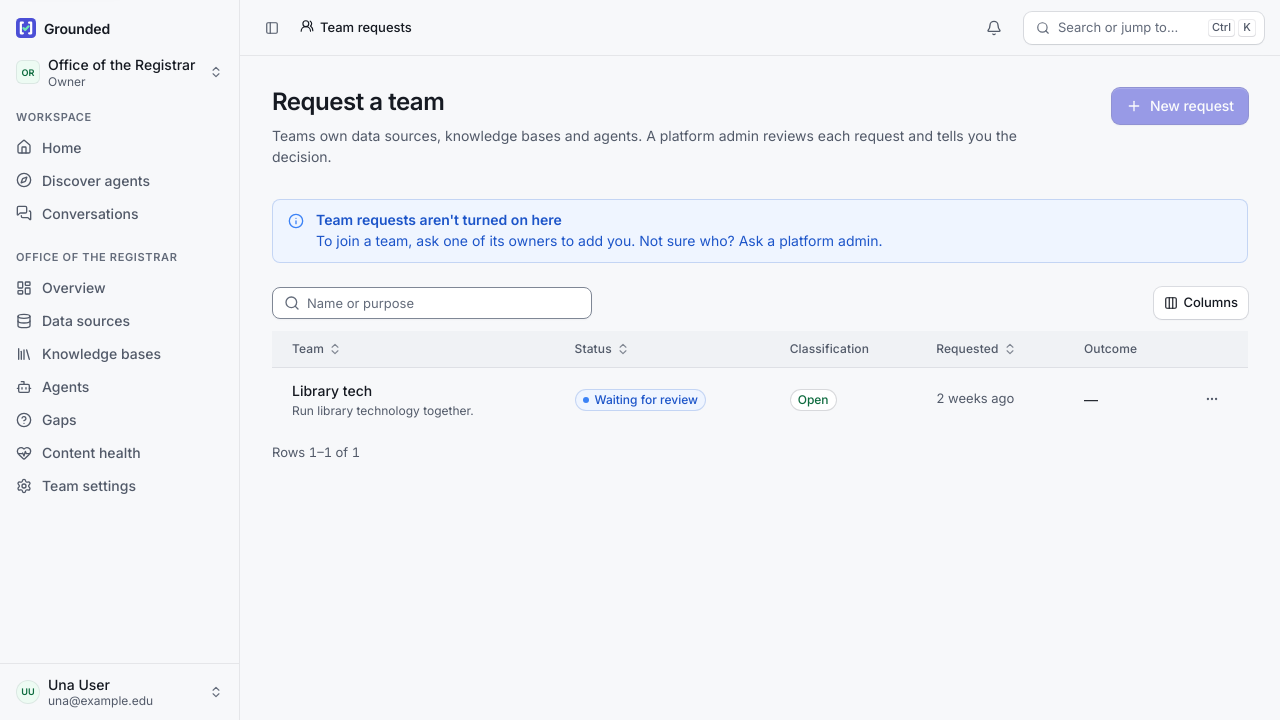
the Withdraw dialog › does not say it while the Team requests switch is off
This screenshot has width=1280, height=720.
Click the button named "Actions for Library tech".
click(1212, 399)  # box [1196, 383, 1228, 415]
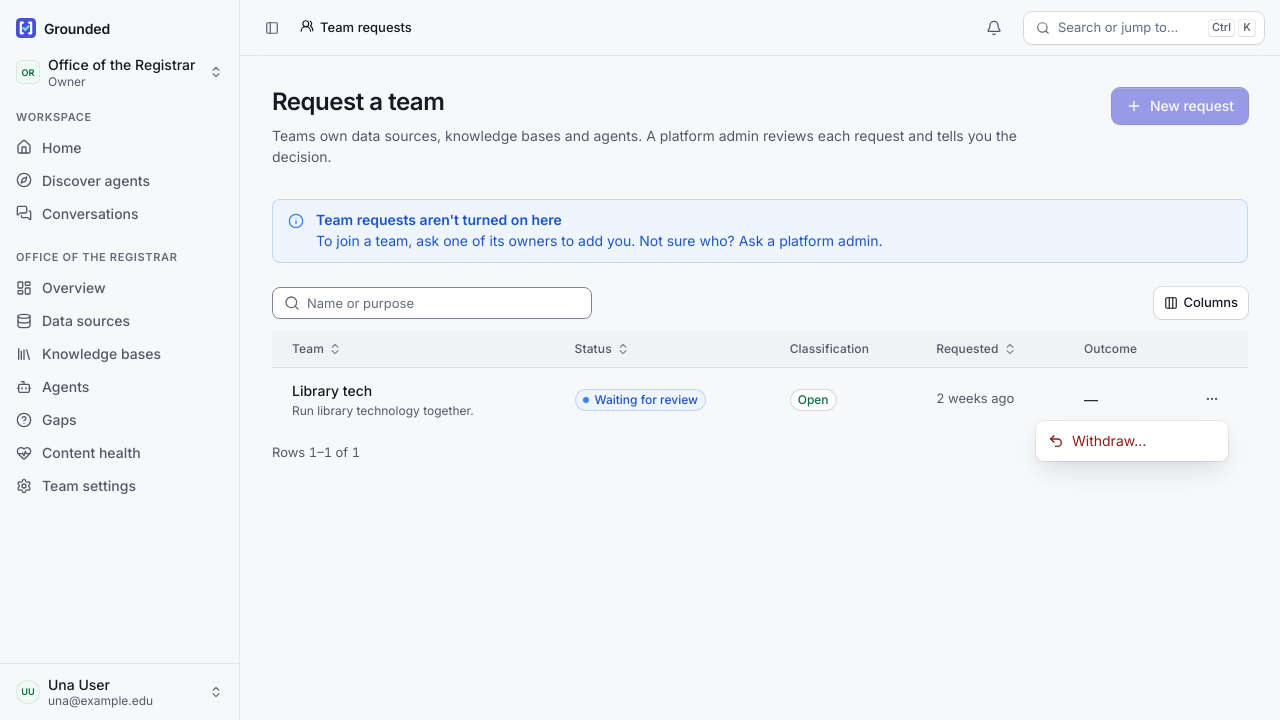
Click the menu item "Withdraw…".
click(1097, 440)  # box [1048, 432, 1146, 449]
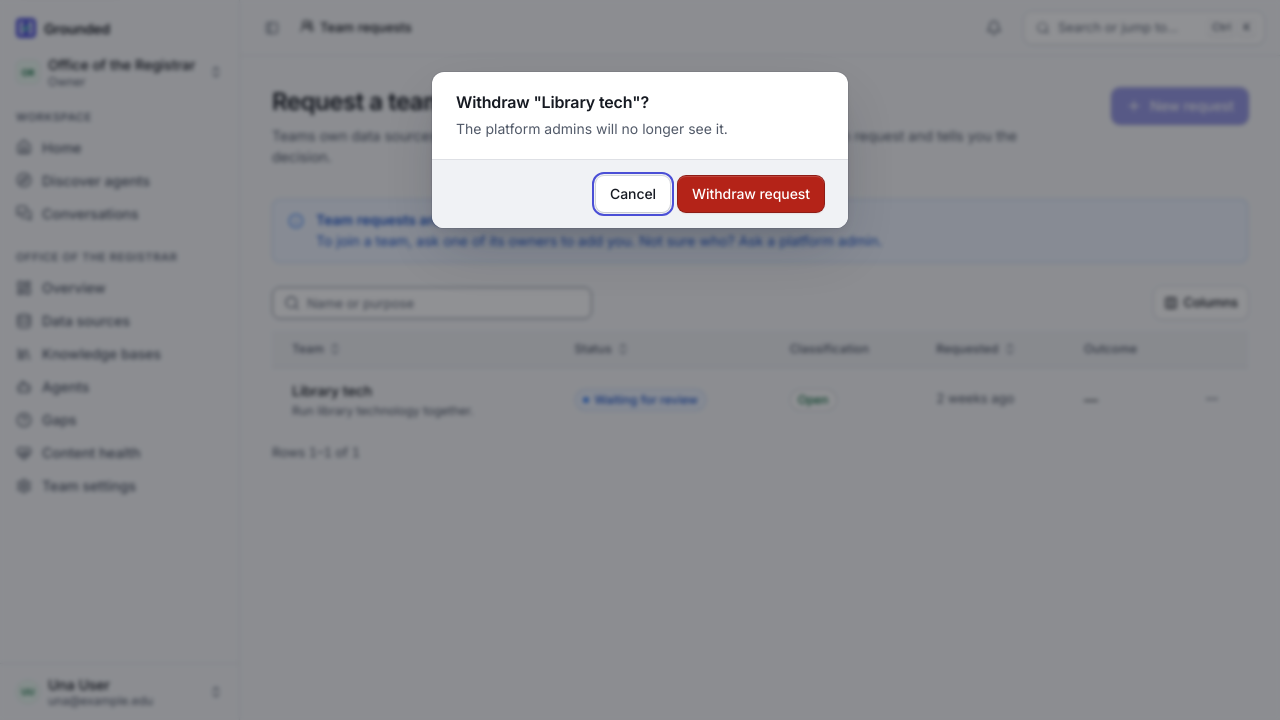
Now the dialog shows "The platform admins will no longer see it.", box [456, 120, 728, 137]
